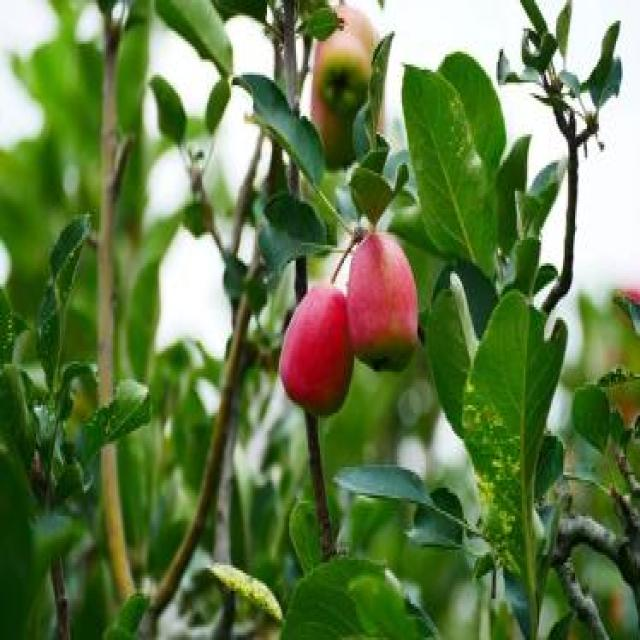fruit: (306, 2, 384, 170), (347, 232, 419, 368), (280, 285, 354, 414)
